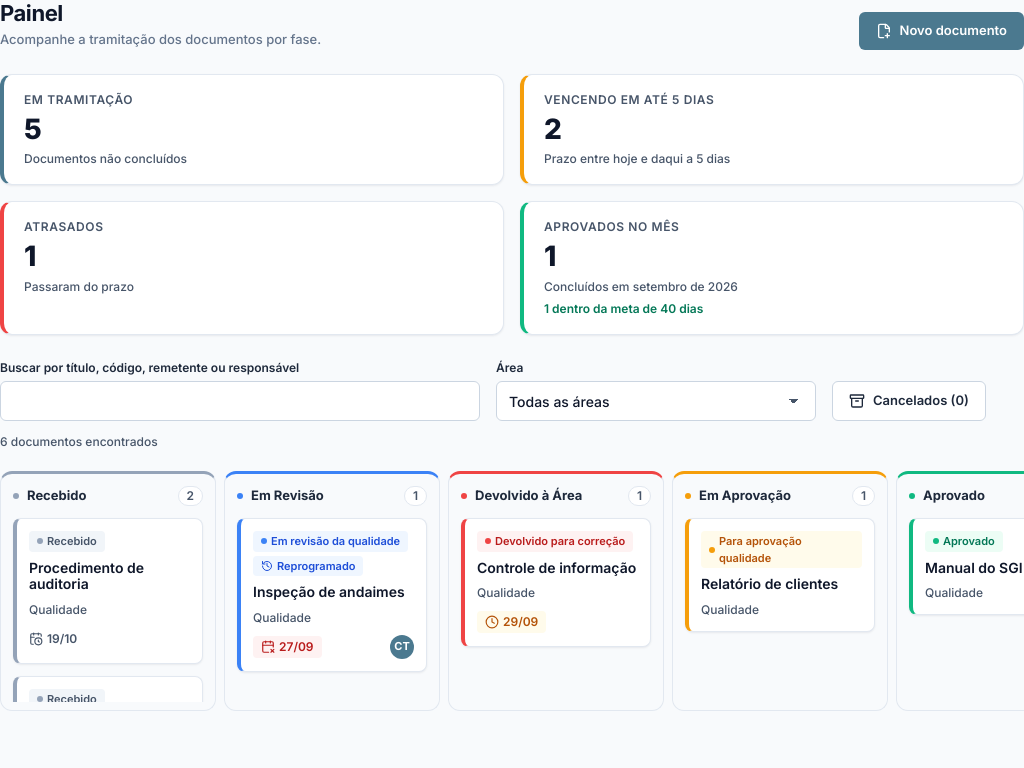
Test: TelaPainel › janela de cancelados vazia
This screenshot has width=1024, height=768.
Click the button "Cancelados (0)" at coordinates (909, 401), box [832, 381, 986, 421]
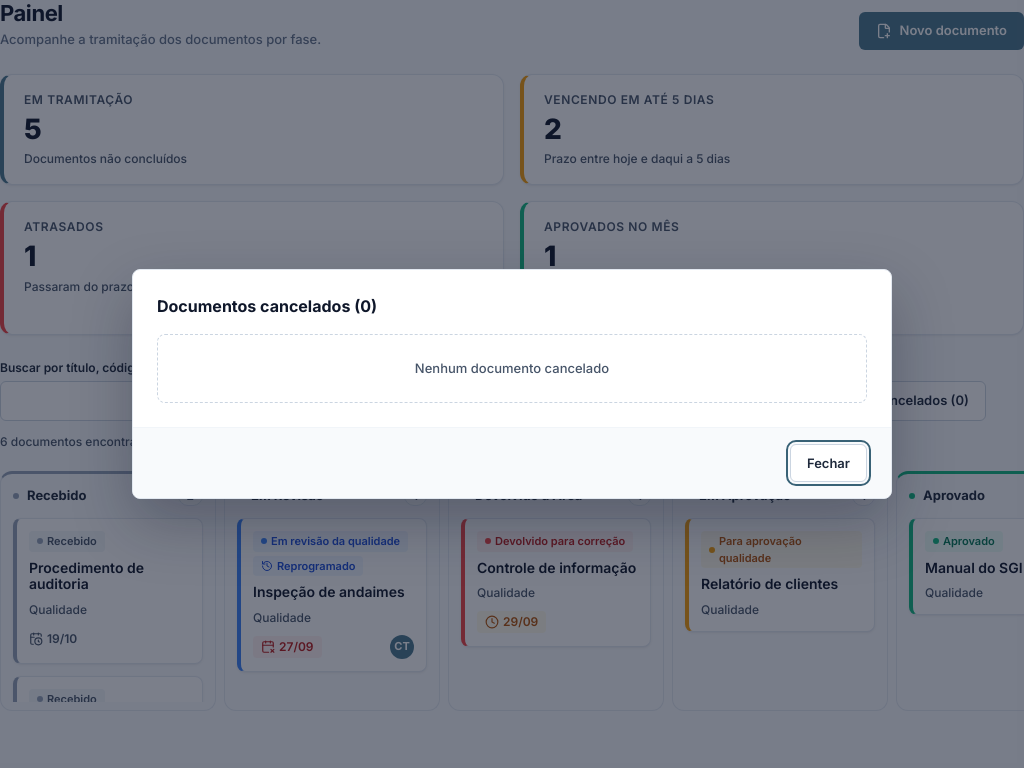
Expected: the text "Nenhum documento cancelado" is shown, [157, 334, 867, 403]
